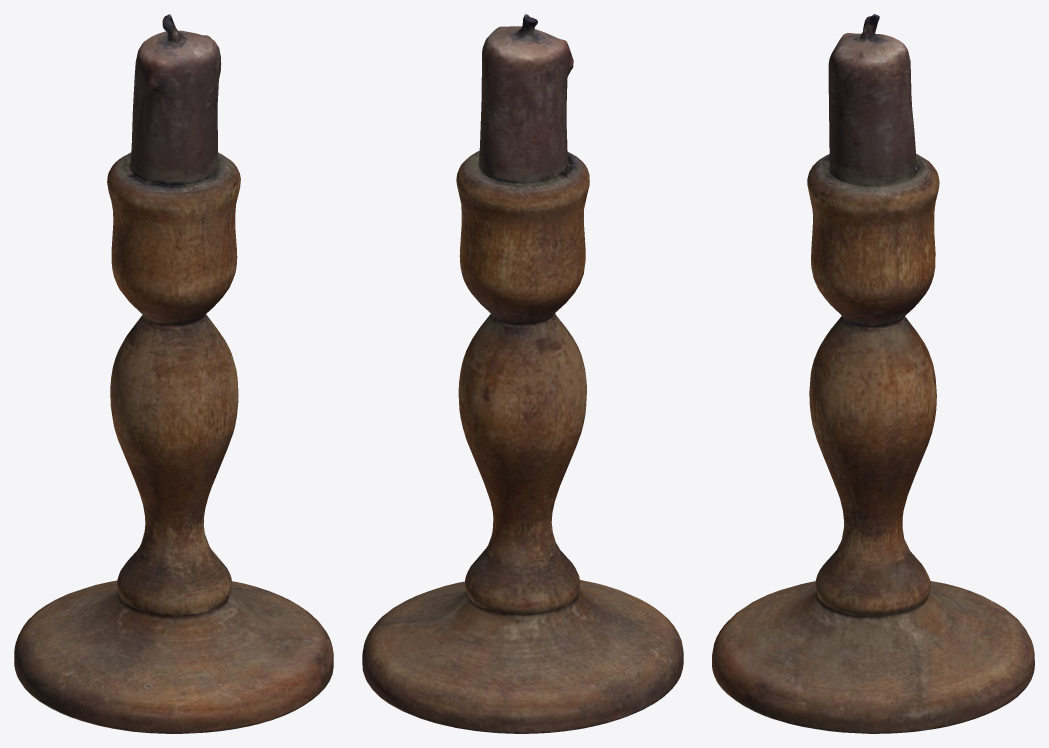
The picture shows the model from 3 angles, left to right: view 1: azimuth 30°, elevation 25°; view 2: azimuth 150°, elevation 25°; view 3: azimuth 270°, elevation 25°; orthographic projection.
Visible parts, largest first — view 1: wooden_candlestick; view 2: wooden_candlestick; view 3: wooden_candlestick.
Part boxes in pixels (<box>): wooden_candlestick: <box>14,14,333,733</box>; wooden_candlestick: <box>362,14,683,733</box>; wooden_candlestick: <box>712,14,1034,733</box>.
Bounding box in the file's own units: 0.0972 × 0.2196 × 0.0986.
Materials: 1 (1 with a texture image).
